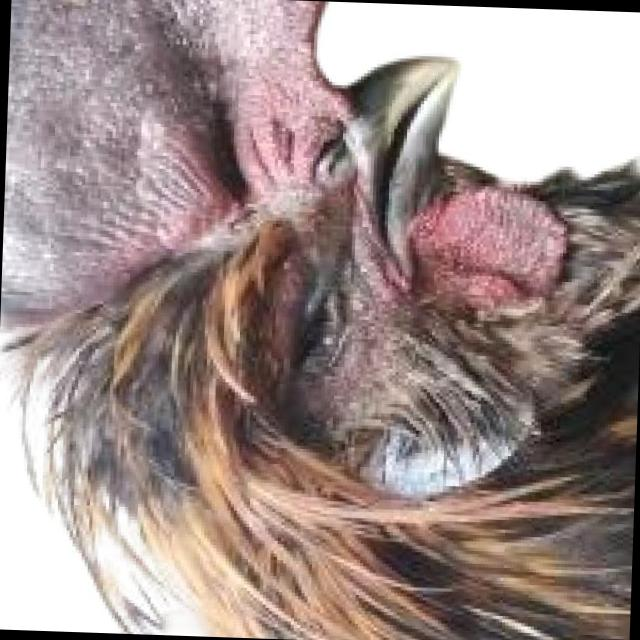Coryza: (226, 253, 400, 436)
